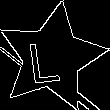L_N: (33, 30, 71, 85)
